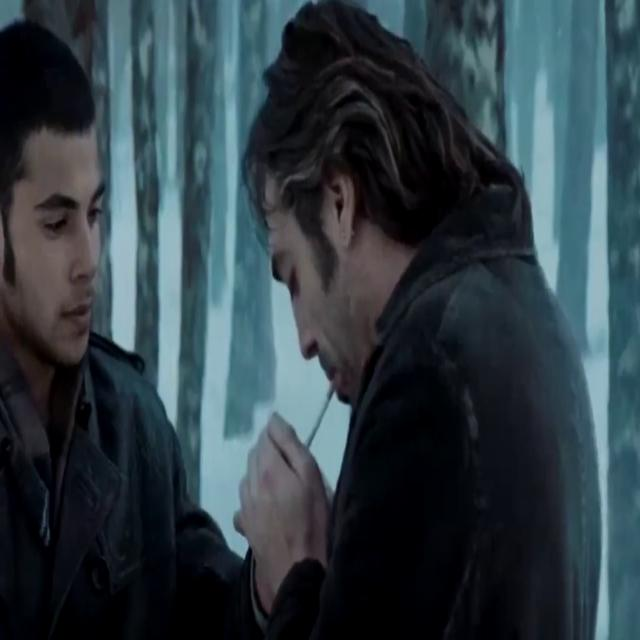Smooking: (294, 378, 336, 445)
